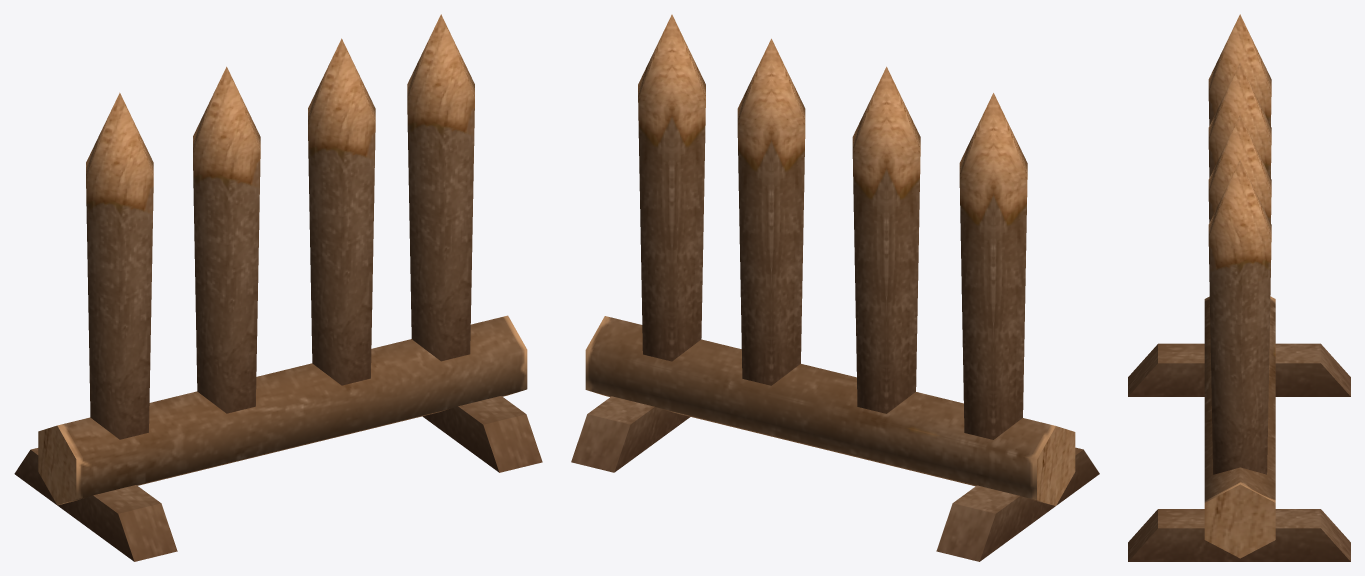
Rendered from FH_Env_obj_02.FBX.
3 views of the same model, side by side, from view 1: azimuth 30°, elevation 25°; view 2: azimuth 150°, elevation 25°; view 3: azimuth 270°, elevation 25° (orthographic). The views are drawn at different scales.
Parts seen in each view (by area): view 1: Cylinder02, Object58, Object152, Object150, Object151; view 2: Cylinder02, Object151, Object150, Object152, Object58; view 3: Cylinder02, Object58, Object151, Object152, Object150.
Part boxes in pixels (box(x1,y1,x2,y2)): Cylinder02: box(14, 315, 542, 561); Object58: box(407, 14, 474, 361); Object152: box(86, 92, 153, 439); Object150: box(308, 38, 375, 385); Object151: box(193, 66, 260, 413); Cylinder02: box(571, 316, 1099, 561); Object151: box(852, 66, 920, 413); Object150: box(737, 38, 805, 385); Object152: box(959, 93, 1027, 439); Object58: box(638, 14, 705, 361); Cylinder02: box(1128, 296, 1350, 561); Object58: box(1208, 159, 1271, 474); Object151: box(1208, 62, 1271, 177); Object152: box(1208, 14, 1271, 125); Object150: box(1208, 114, 1271, 222).
Bounding box in the file's own units: 4.78 × 4.2 × 2.21.
